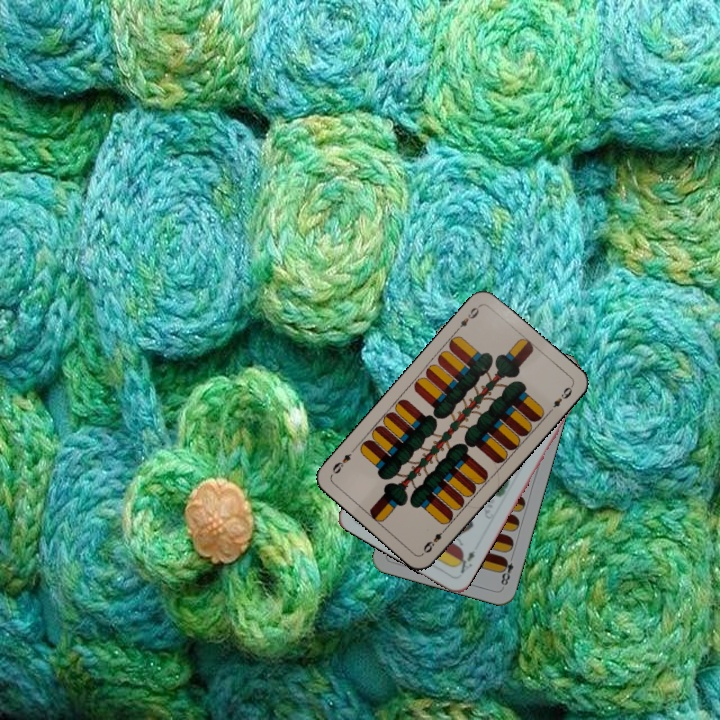E8: (497, 550, 517, 590)
E9: (452, 301, 483, 335), (419, 523, 450, 556)
EA: (456, 546, 478, 576)
